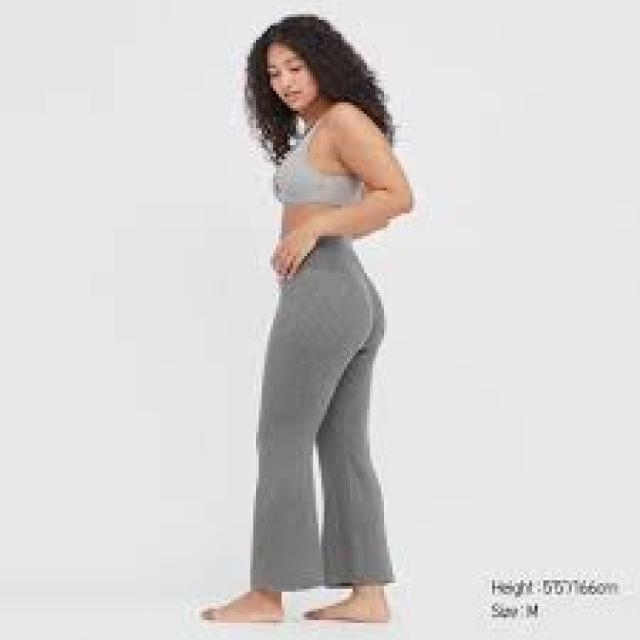pants: (242, 231, 408, 591)
